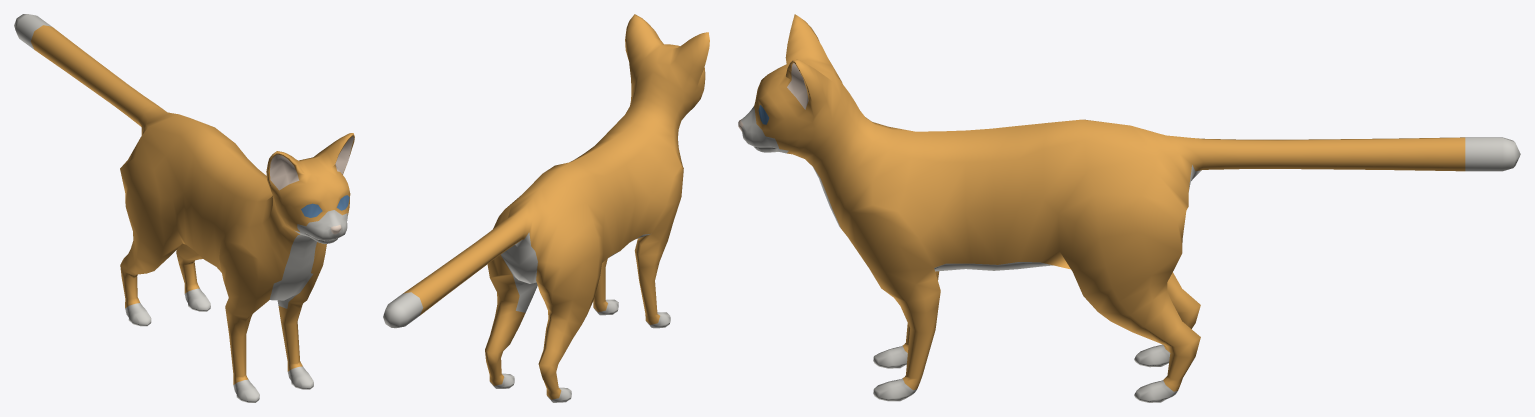
The model's file is CH_cat_01.fbx.
3 views of the same model, side by side, from view 1: azimuth 30°, elevation 25°; view 2: azimuth 150°, elevation 25°; view 3: azimuth 270°, elevation 25° (orthographic). The views are drawn at different scales.
Visible parts, largest first — view 1: lod1; view 2: lod1; view 3: lod1.
Part boxes in pixels (bbox=[...]): lod1: bbox=[14, 14, 354, 402]; lod1: bbox=[383, 14, 709, 402]; lod1: bbox=[738, 14, 1520, 402].
Bounding box in the file's own units: 19.9 × 54.82 × 113.
